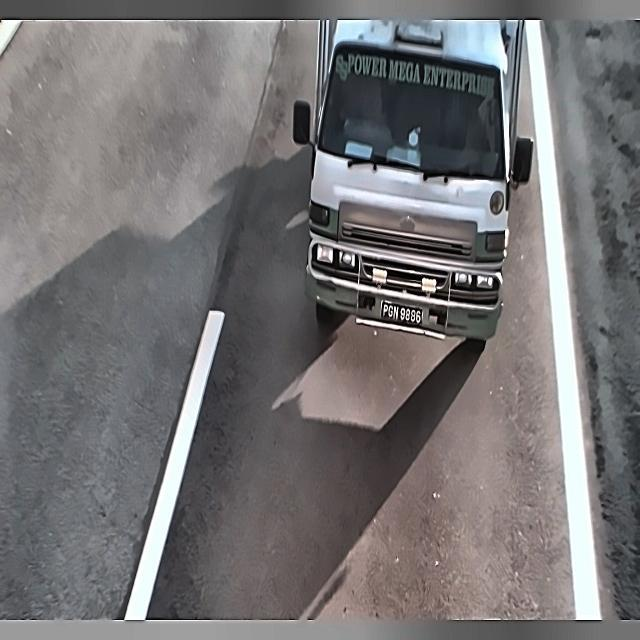car: (378, 295, 430, 335)
